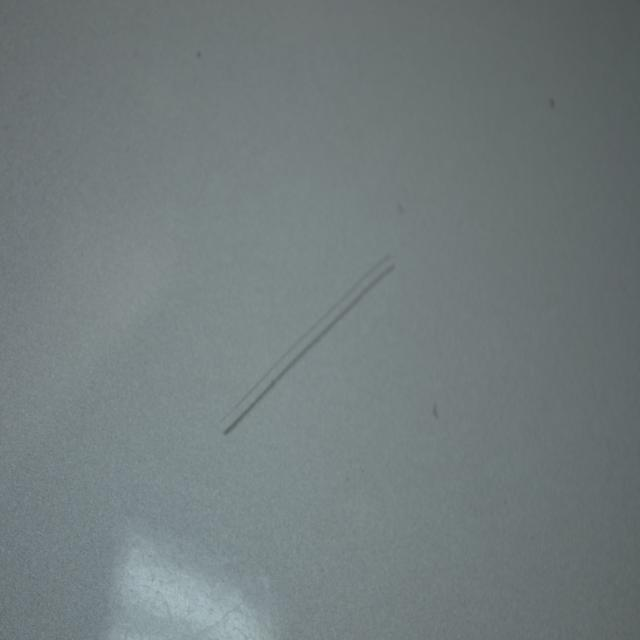dirt: (428, 398, 444, 424), (191, 41, 206, 64), (546, 91, 560, 110)
scratch: (217, 238, 401, 445)
